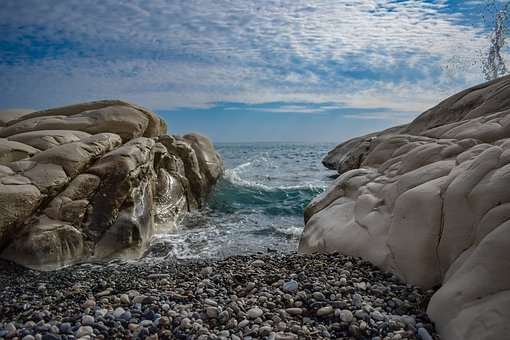sky: (6, 6, 497, 126)
stone: (314, 77, 510, 340), (7, 106, 227, 276)
